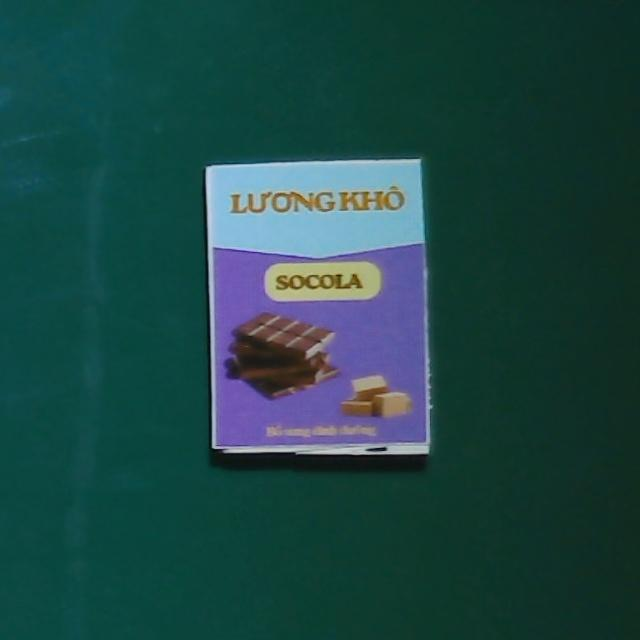socola: (202, 156, 433, 461)
